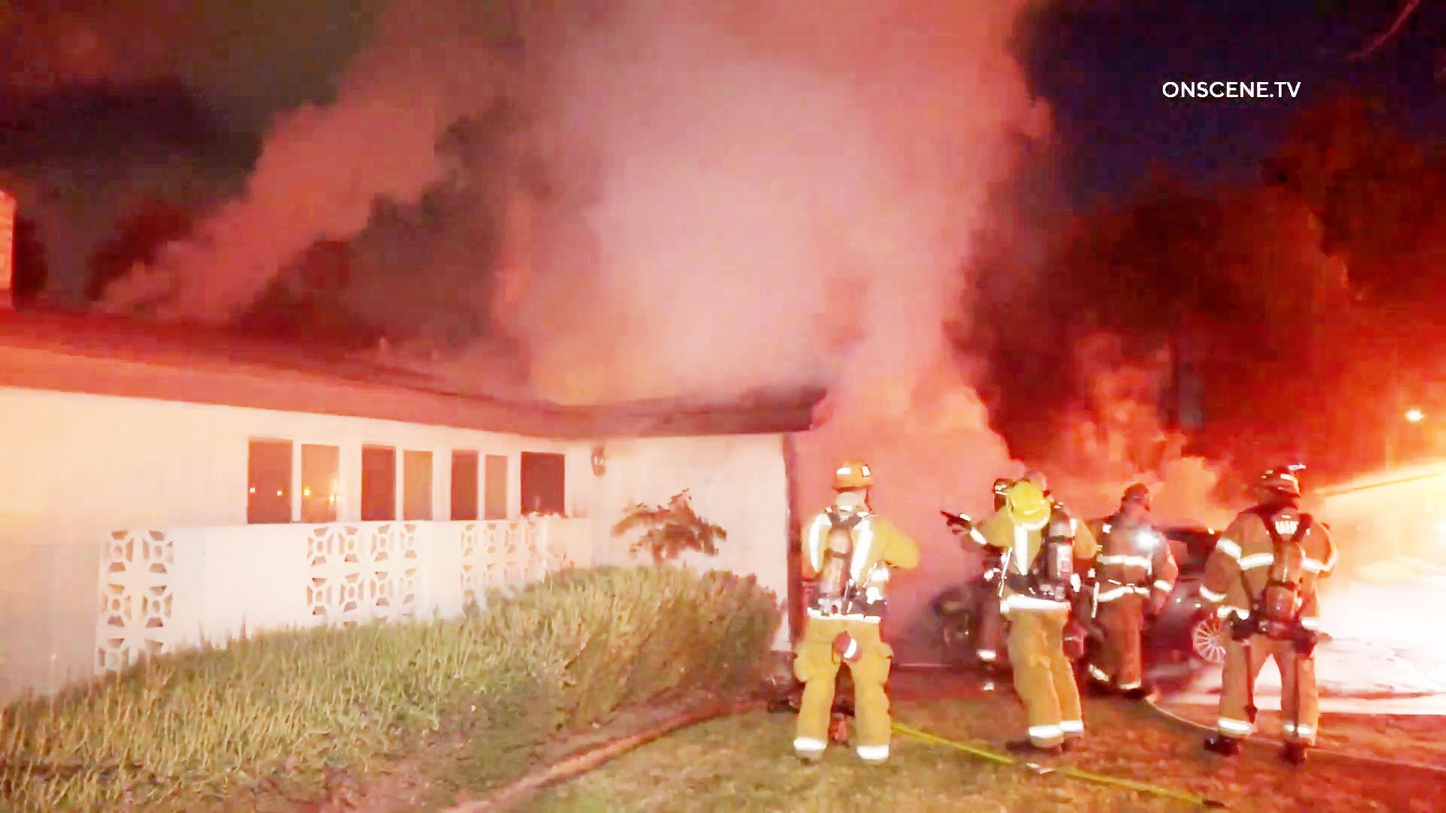smoke: (125, 17, 1041, 377), (947, 108, 1412, 375), (838, 371, 1004, 466)
